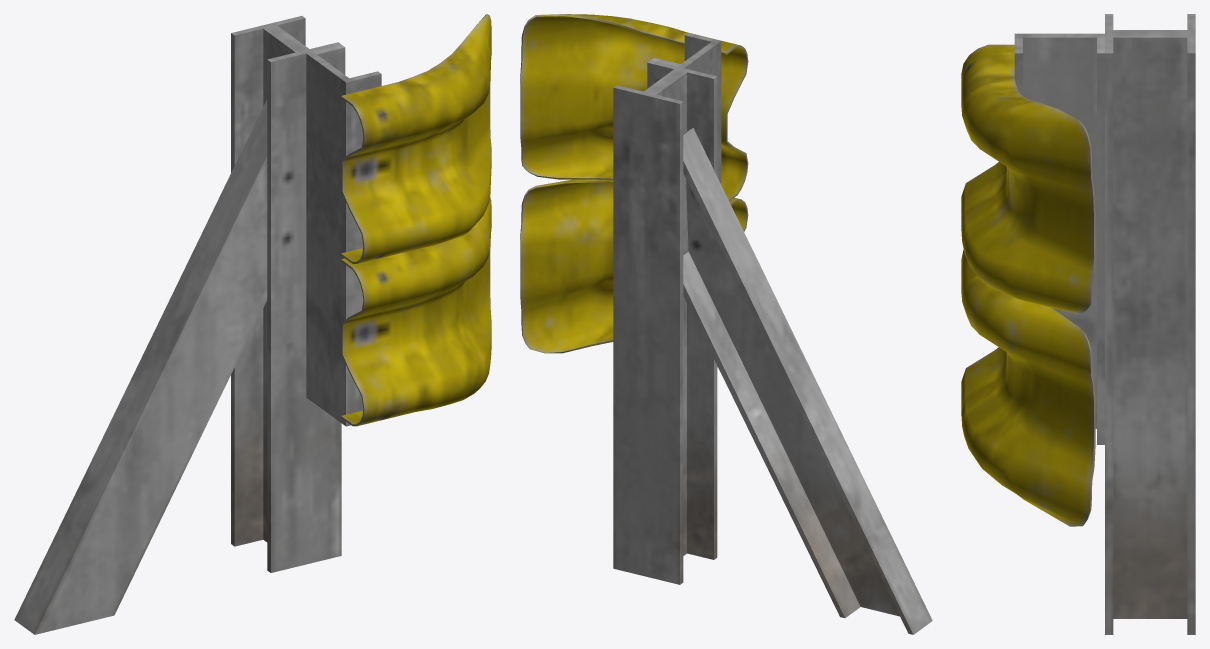
File: guardrail_terminal.glb
The picture shows the model from 3 angles, left to right: view 1: azimuth 30°, elevation 25°; view 2: azimuth 150°, elevation 25°; view 3: azimuth 270°, elevation 25°; orthographic projection. The views are drawn at different scales.
Parts seen in each view (by area): view 1: guardrail_terminal.glb; view 2: guardrail_terminal.glb; view 3: guardrail_terminal.glb.
Boxes of the visible parts, x1,y1,x2,y2 form: guardrail_terminal.glb: (14, 14, 491, 634); guardrail_terminal.glb: (520, 14, 932, 634); guardrail_terminal.glb: (961, 14, 1195, 634).
Size of the model in its own units: 0.9738 by 1.09 by 0.3884.
1 material, 1 textured.
